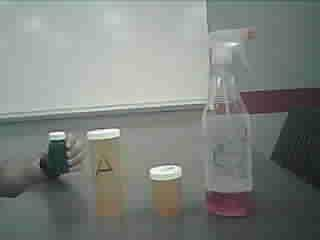Bottle A: (85, 124, 139, 224)
Bottle B: (148, 156, 190, 232)
Bottle C: (42, 129, 88, 187)
hazard: (192, 25, 271, 220)
